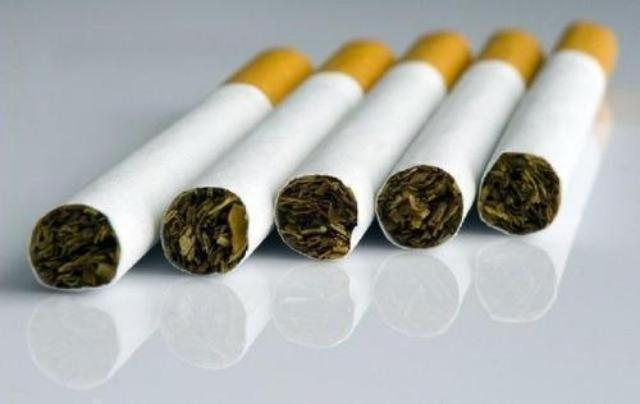Cigarette: (29, 48, 314, 292), (161, 38, 399, 276), (275, 32, 475, 262), (375, 27, 545, 251), (478, 21, 618, 237)
